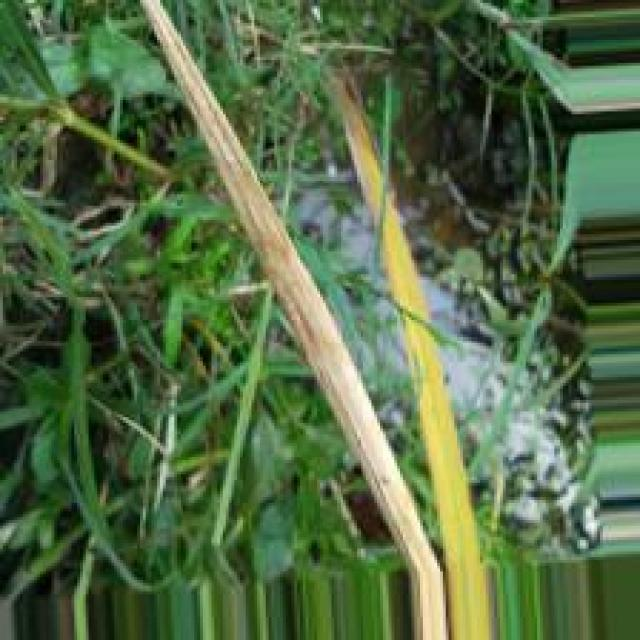Bacterial_Leaf_Blight: (143, 1, 438, 571)
